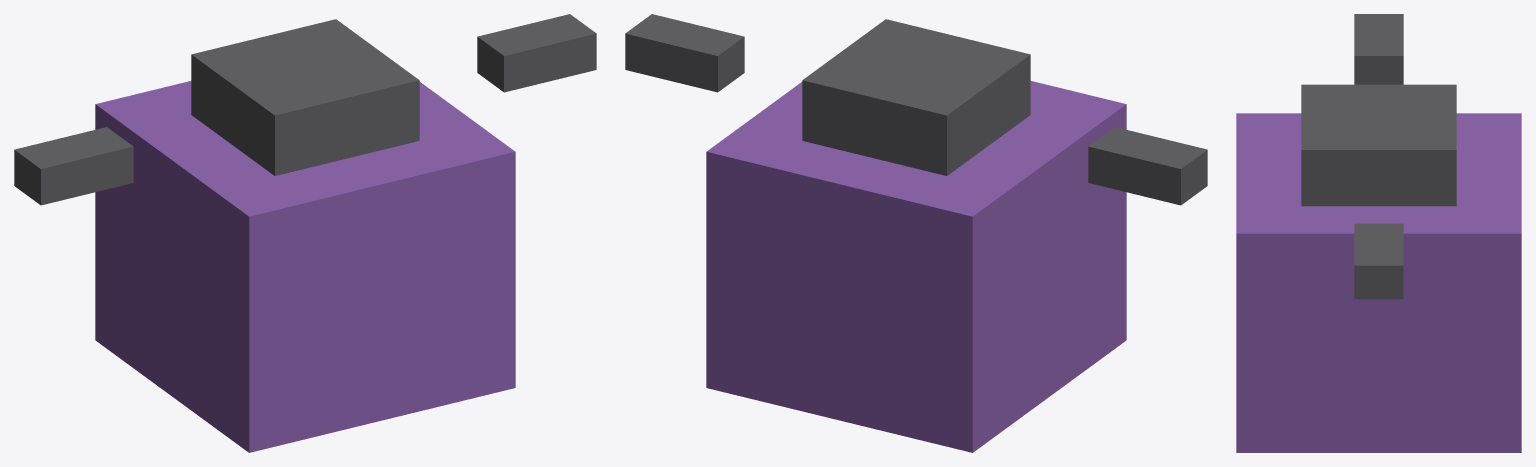
The picture shows the model from 3 angles, left to right: view 1: azimuth 30°, elevation 25°; view 2: azimuth 150°, elevation 25°; view 3: azimuth 270°, elevation 25°; orthographic projection. The views are drawn at different scales.
Parts seen in each view (by area): view 1: ds18b20-pcb, ds18b20-ic; view 2: ds18b20-pcb, ds18b20-ic; view 3: ds18b20-pcb, ds18b20-ic.
Boxes of the visible parts, x1,y1,x2,y2 form: ds18b20-pcb: (95,81,515,452); ds18b20-ic: (14,14,596,205); ds18b20-pcb: (706,81,1126,452); ds18b20-ic: (625,14,1207,205); ds18b20-pcb: (1236,113,1521,452); ds18b20-ic: (1301,14,1456,299).
Bounding box in the file's own units: 0.0096 × 0.0049 × 0.0046.
